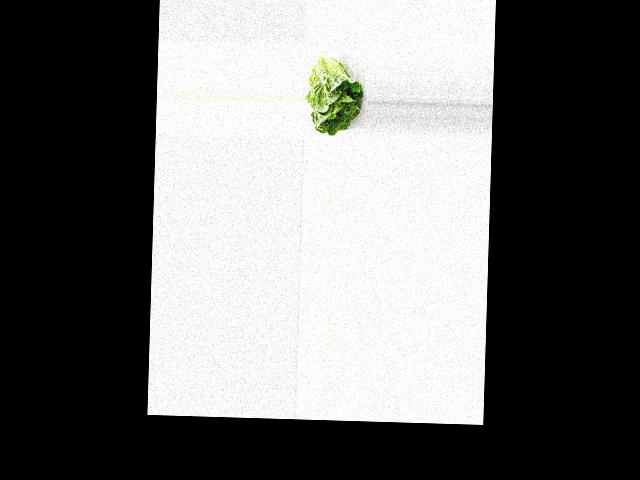lettuce: (304, 52, 365, 135)
